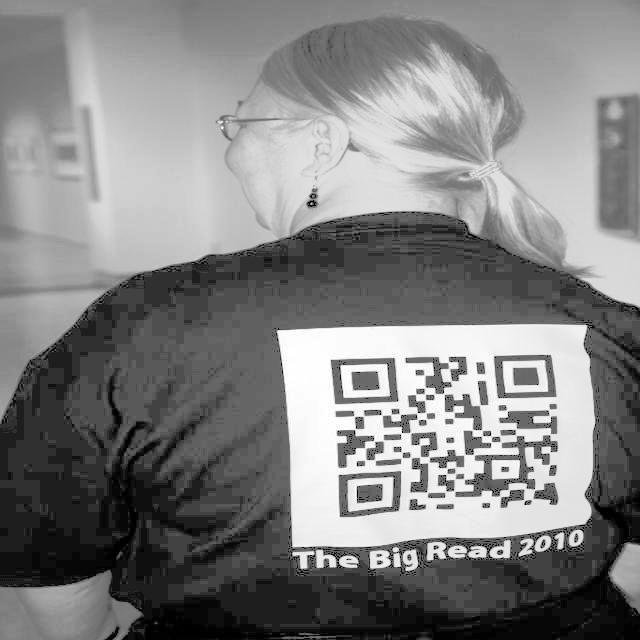qr_code: (330, 355, 557, 518)
